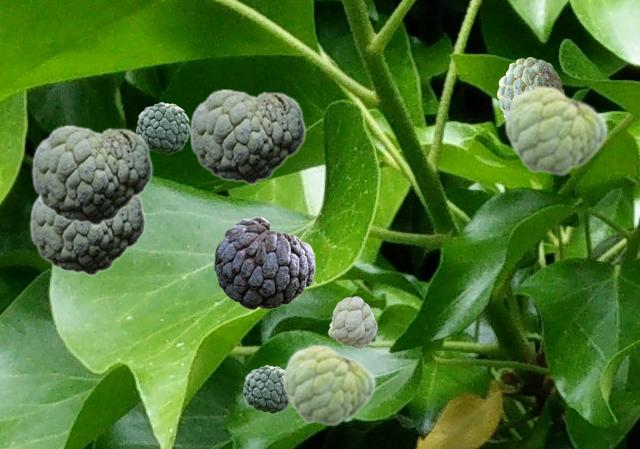atis: (31, 124, 152, 225), (189, 88, 305, 184), (503, 84, 607, 176), (29, 195, 145, 275), (214, 216, 314, 308), (281, 343, 375, 426), (497, 57, 563, 117), (136, 102, 189, 153), (328, 296, 376, 347), (243, 365, 288, 412)
